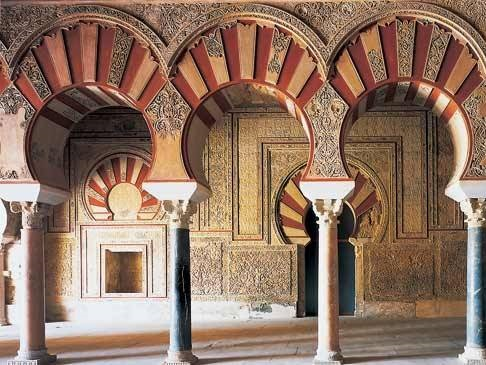arco-herradura: (326, 68, 481, 224), (21, 75, 173, 217), (178, 73, 325, 217)
